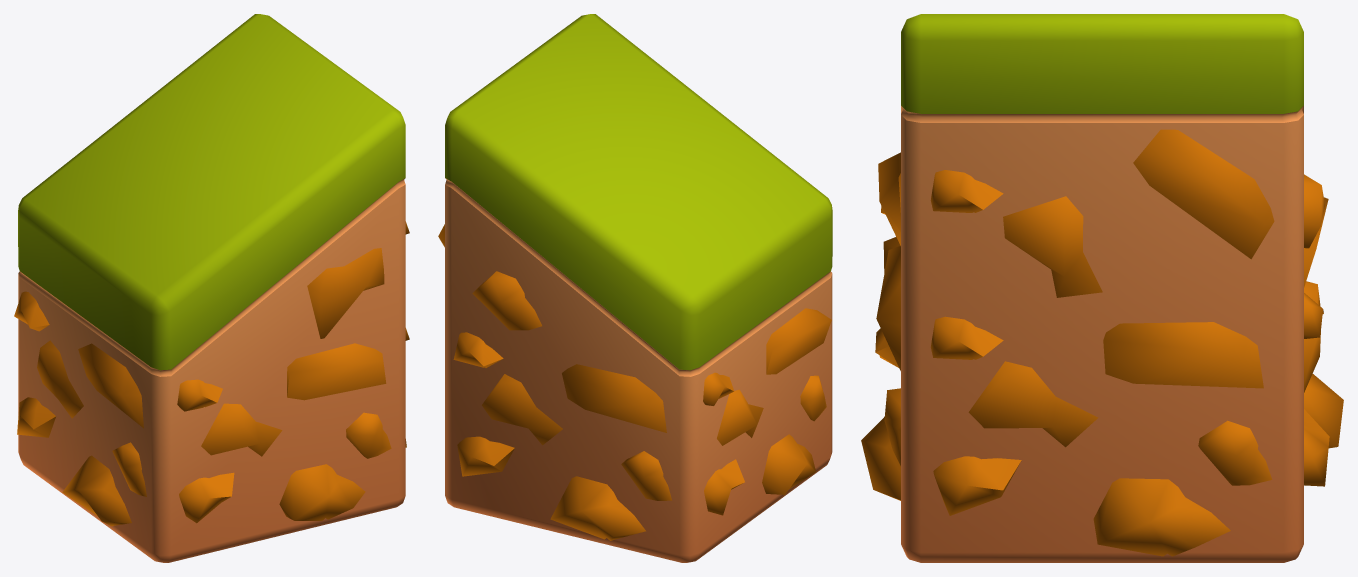
File: 3D_Tile_Ground_01x1_5B.fbx
3 views of the same model, side by side, from view 1: azimuth 30°, elevation 25°; view 2: azimuth 150°, elevation 25°; view 3: azimuth 270°, elevation 25° (orthographic). The views are drawn at different scales.
Parts seen in each view (by area): view 1: 3D_Tile_Ground_01x1.5B; view 2: 3D_Tile_Ground_01x1.5B; view 3: 3D_Tile_Ground_01x1.5B.
Boxes of the visible parts, left/top/right/bottom form: 3D_Tile_Ground_01x1.5B: left=14, top=14, right=409, bottom=562; 3D_Tile_Ground_01x1.5B: left=438, top=14, right=832, bottom=562; 3D_Tile_Ground_01x1.5B: left=861, top=14, right=1343, bottom=562.
Bounding box in the file's own units: 239 × 300 × 239.
